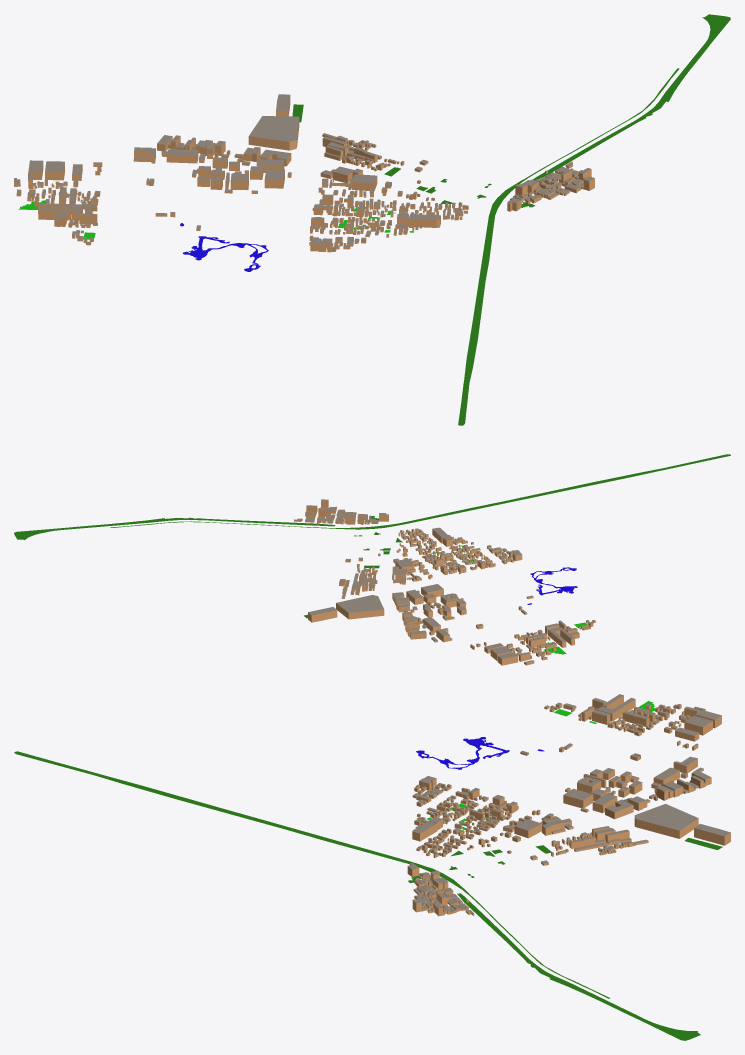
The picture shows the model from 3 angles, top to bottom: view 1: azimuth 30°, elevation 25°; view 2: azimuth 150°, elevation 25°; view 3: azimuth 270°, elevation 25°; orthographic projection. The views are drawn at different scales.
Parts seen in each view (by area): view 1: map.osm_buildings, map.osm_forest, map.osm_water; view 2: map.osm_buildings, map.osm_forest, map.osm_water; view 3: map.osm_buildings, map.osm_forest, map.osm_water.
Boxes of the visible parts, box(x1,y1,x2,y2) form: map.osm_buildings: box(14, 94, 594, 252); map.osm_forest: box(292, 14, 730, 425); map.osm_water: box(180, 223, 268, 271); map.osm_buildings: box(294, 499, 595, 665); map.osm_forest: box(14, 454, 730, 618); map.osm_water: box(527, 567, 577, 604); map.osm_buildings: box(407, 694, 730, 916); map.osm_forest: box(14, 751, 722, 1040); map.osm_water: box(416, 737, 544, 769).
Size of the model in its own units: 1562 by 1391 by 21.45.
